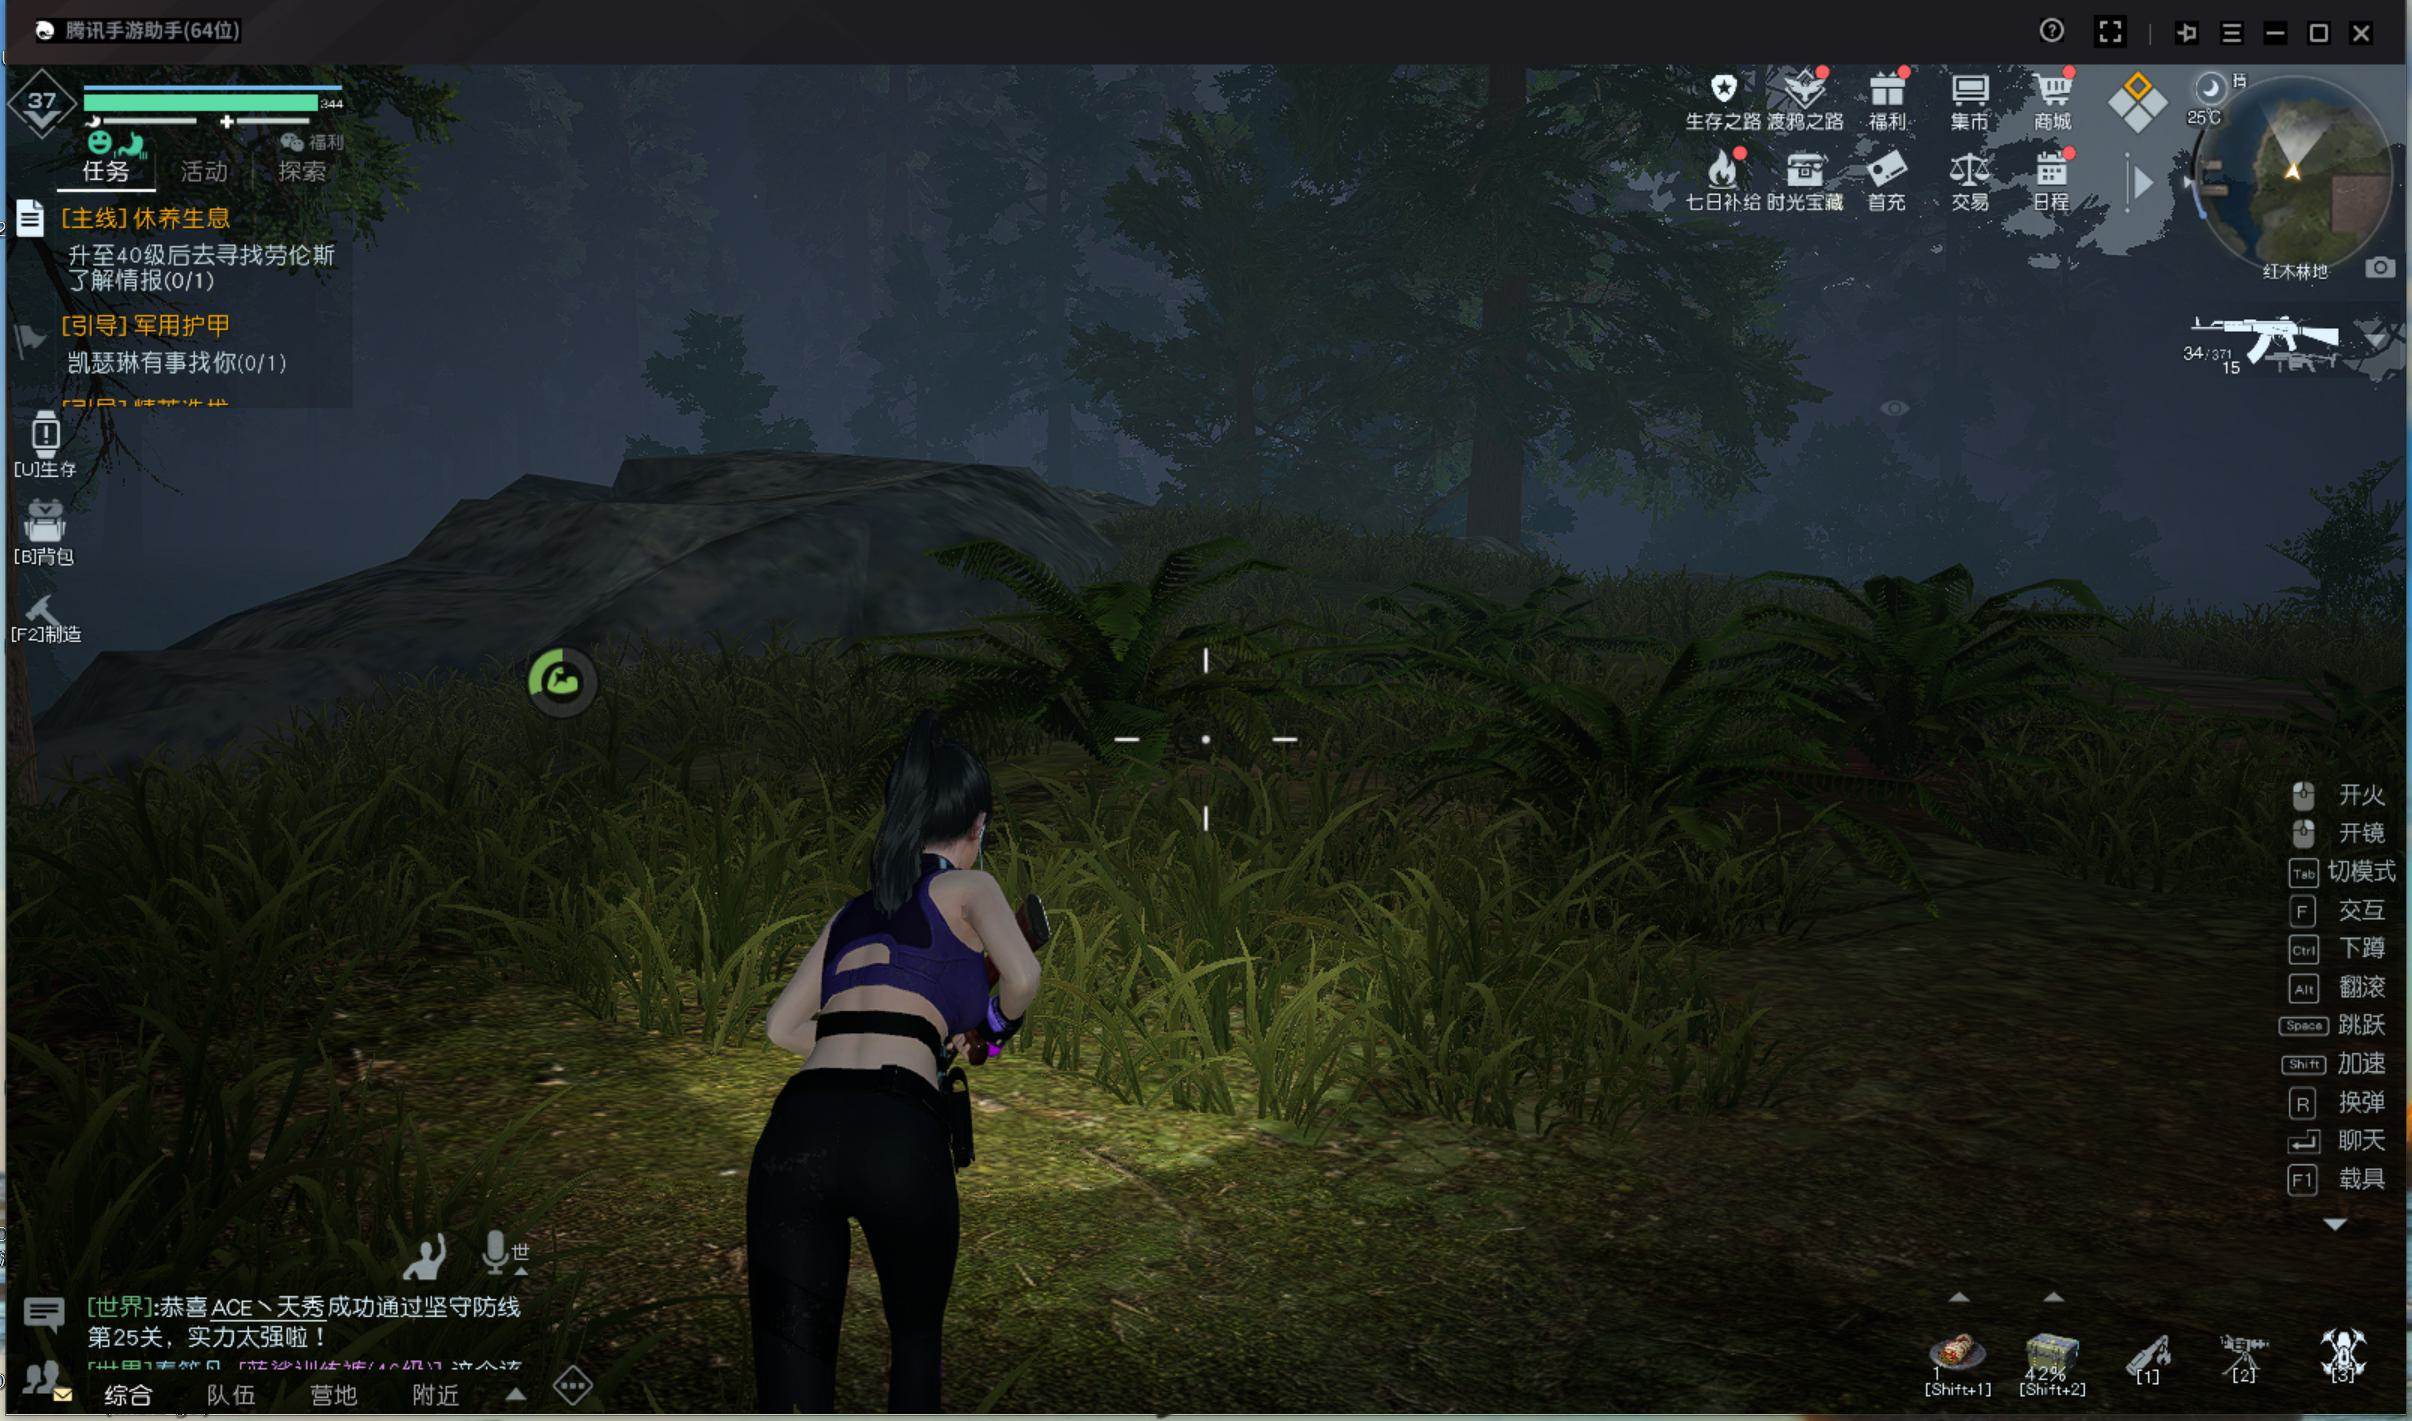tree: (1461, 286, 1526, 572), (1218, 347, 1270, 529), (1040, 303, 1083, 509)
